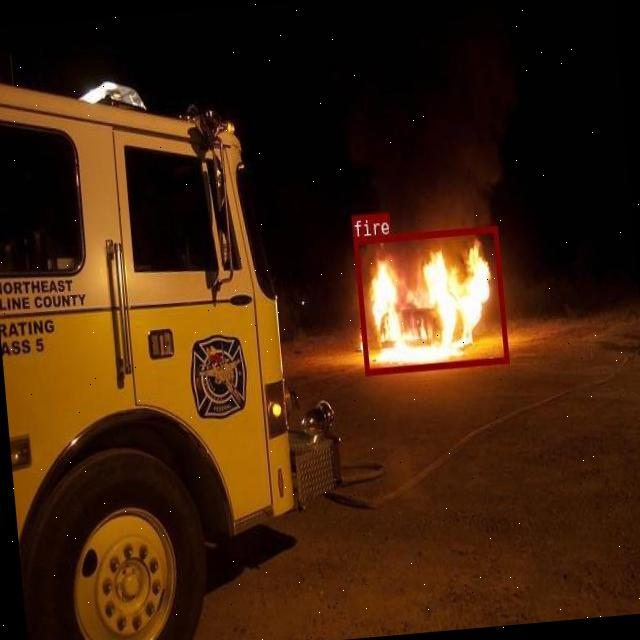fire: (353, 224, 507, 374)
